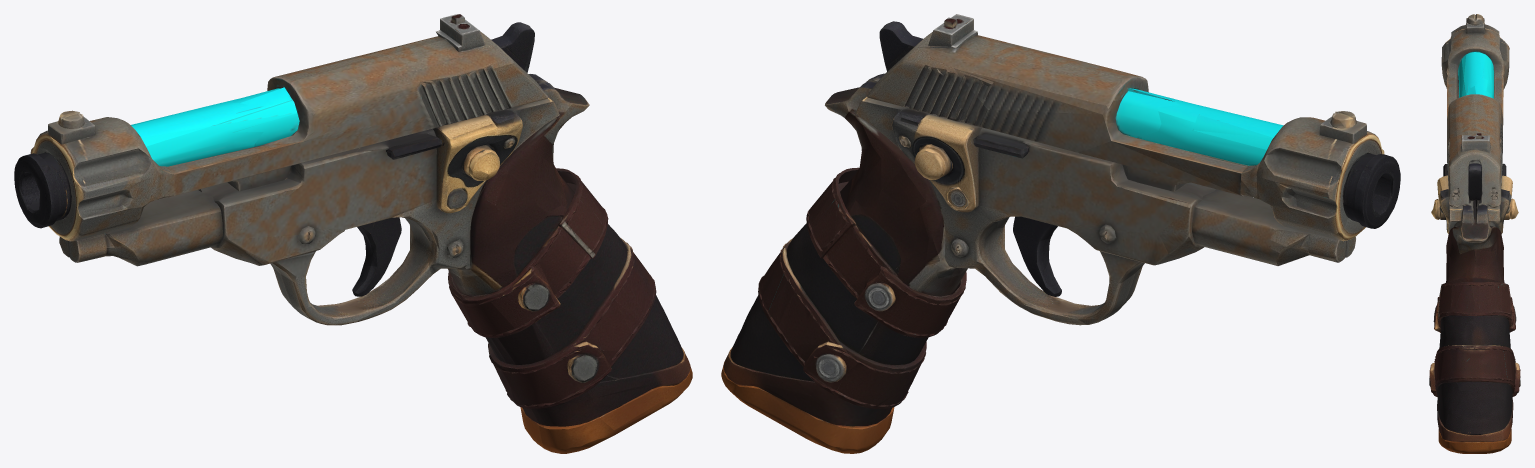
Rendered from ScrapPistol.glb.
3 views of the same model, side by side, from view 1: azimuth 30°, elevation 25°; view 2: azimuth 150°, elevation 25°; view 3: azimuth 270°, elevation 25° (orthographic). The views are drawn at different scales.
Bounding box in the file's own units: 1.9 × 1.25 × 0.3698.
1 material, 1 textured.
